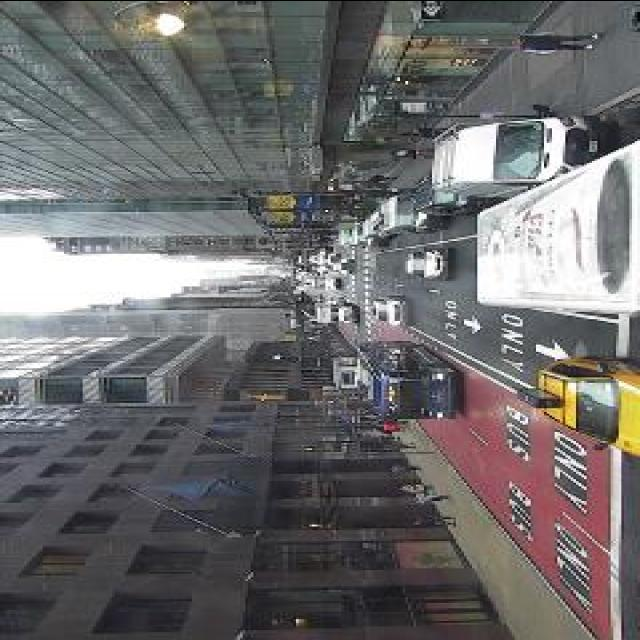parkedCars: (310, 195, 468, 242)
